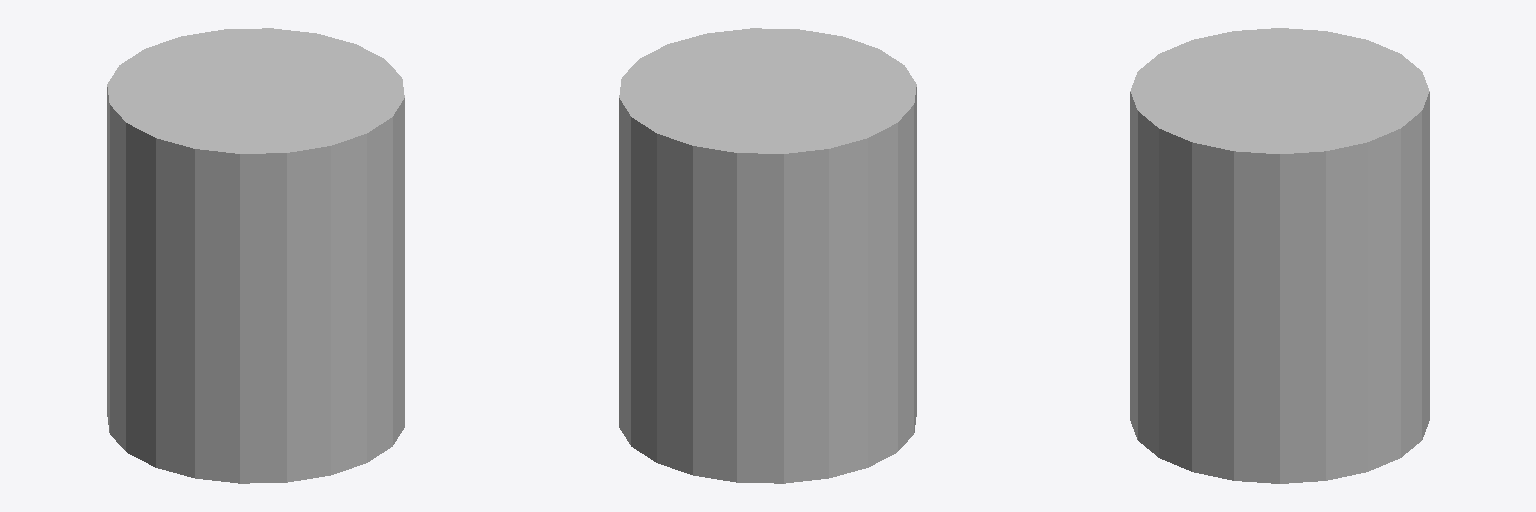
File: Can.obj
3 renders of one model, left to right at view 1: azimuth 30°, elevation 25°; view 2: azimuth 150°, elevation 25°; view 3: azimuth 270°, elevation 25°, orthographic.
Visible parts, largest first — view 1: pCylinder1; view 2: pCylinder1; view 3: pCylinder1.
Boxes of the visible parts, <box> form: pCylinder1: <box>107,28,404,483</box>; pCylinder1: <box>619,28,916,483</box>; pCylinder1: <box>1130,28,1429,483</box>.
Bounding box in the file's own units: 1.05 × 1.27 × 1.05.